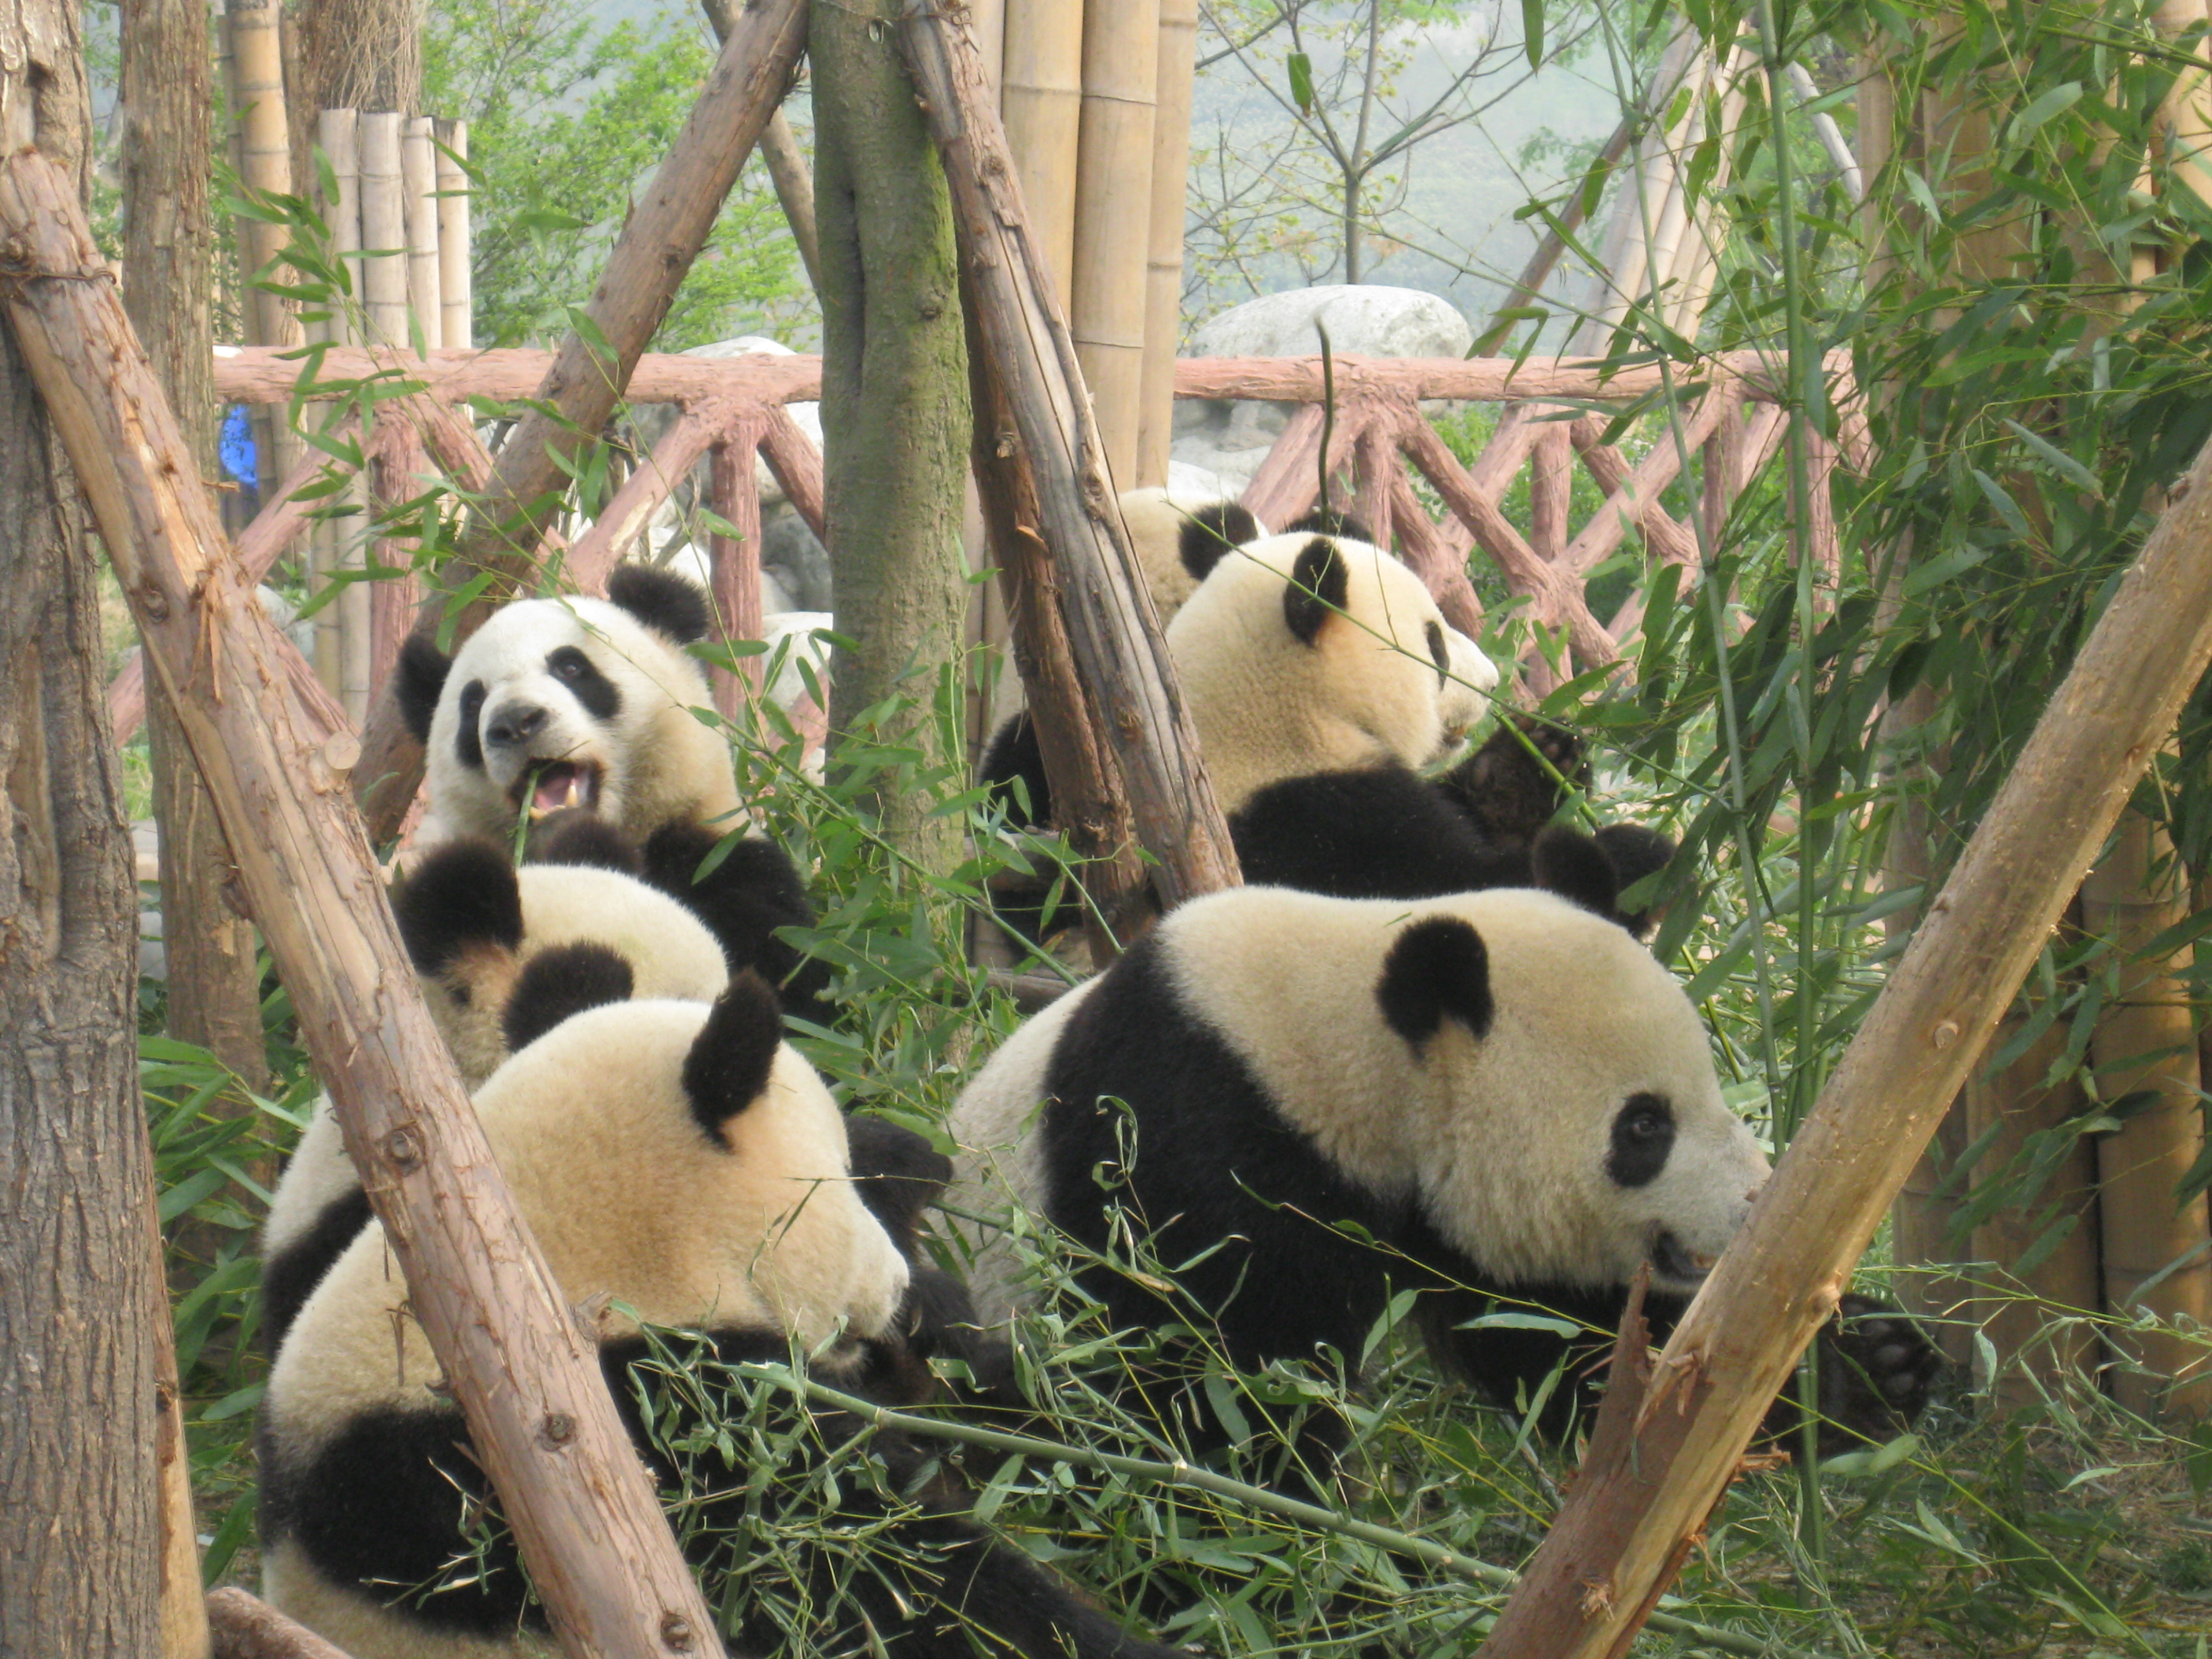panda: (833, 870, 1911, 1385), (199, 983, 984, 1584), (989, 509, 1695, 901), (209, 824, 838, 1138), (373, 599, 796, 910)
